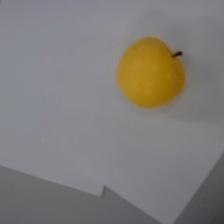yellow: (115, 36, 184, 108)
